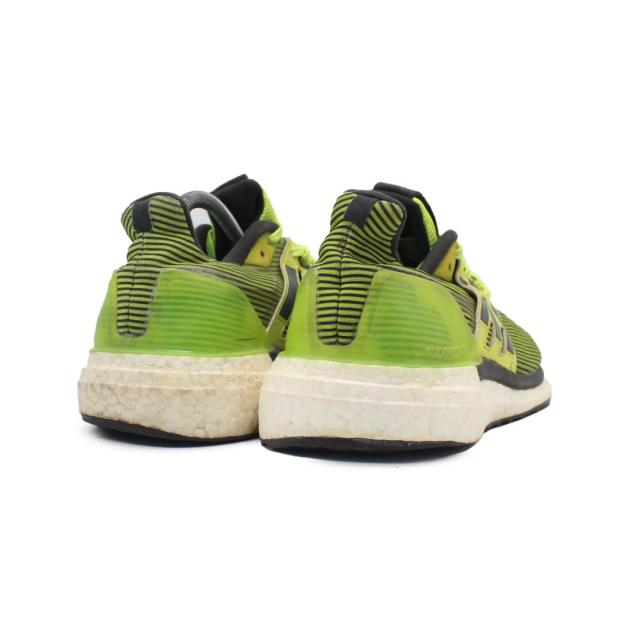heel: (278, 180, 476, 366), (92, 192, 271, 355)
midsole: (258, 352, 549, 458), (77, 349, 270, 439)
uppersole: (458, 245, 541, 370)
